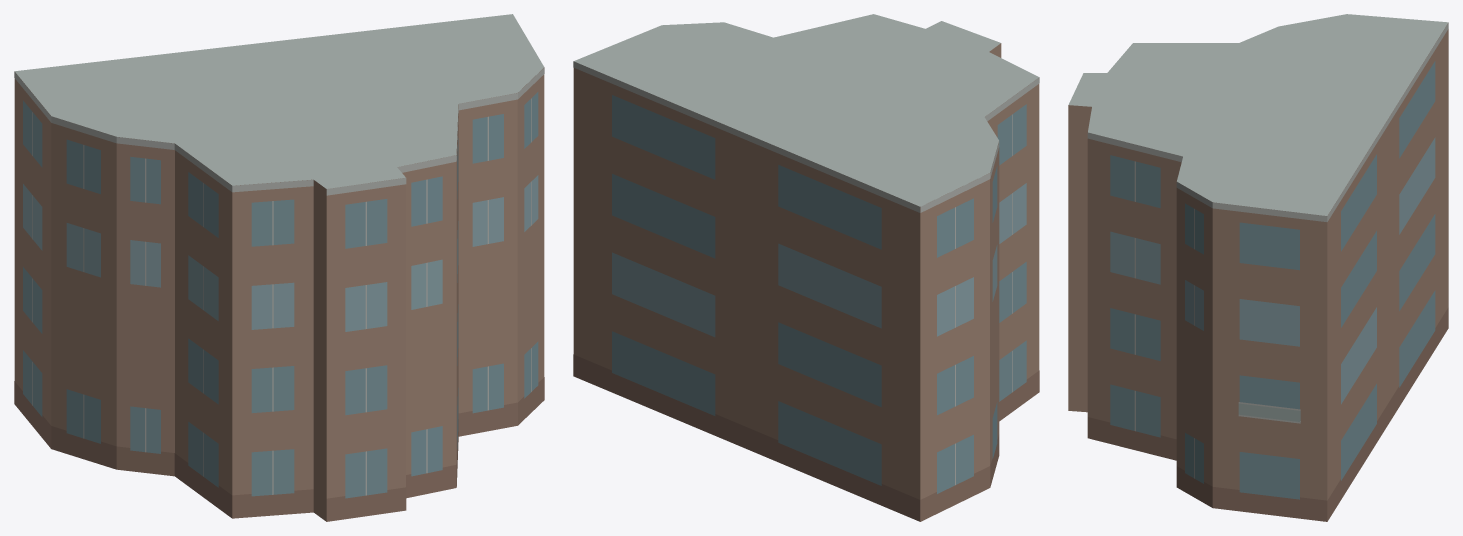
Rendered from residential-5b9f3b47-fe14-40de-8f1b-3fd759e9b7c3.glb.
3 renders of one model, left to right at view 1: azimuth 30°, elevation 25°; view 2: azimuth 150°, elevation 25°; view 3: azimuth 270°, elevation 25°, orthographic. The views are drawn at different scales.
Parts seen in each view (by area): view 1: residential-5b9f3b47-fe14-40de-8f1b-3fd759e9b7c3.tmp; view 2: residential-5b9f3b47-fe14-40de-8f1b-3fd759e9b7c3.tmp; view 3: residential-5b9f3b47-fe14-40de-8f1b-3fd759e9b7c3.tmp.
Boxes of the visible parts, x1=… form: residential-5b9f3b47-fe14-40de-8f1b-3fd759e9b7c3.tmp: x1=14, y1=14, x2=544, y2=521; residential-5b9f3b47-fe14-40de-8f1b-3fd759e9b7c3.tmp: x1=573, y1=14, x2=1039, y2=521; residential-5b9f3b47-fe14-40de-8f1b-3fd759e9b7c3.tmp: x1=1068, y1=14, x2=1448, y2=521.
Bounding box in the file's own units: 17.3 × 12.2 × 13.76.
